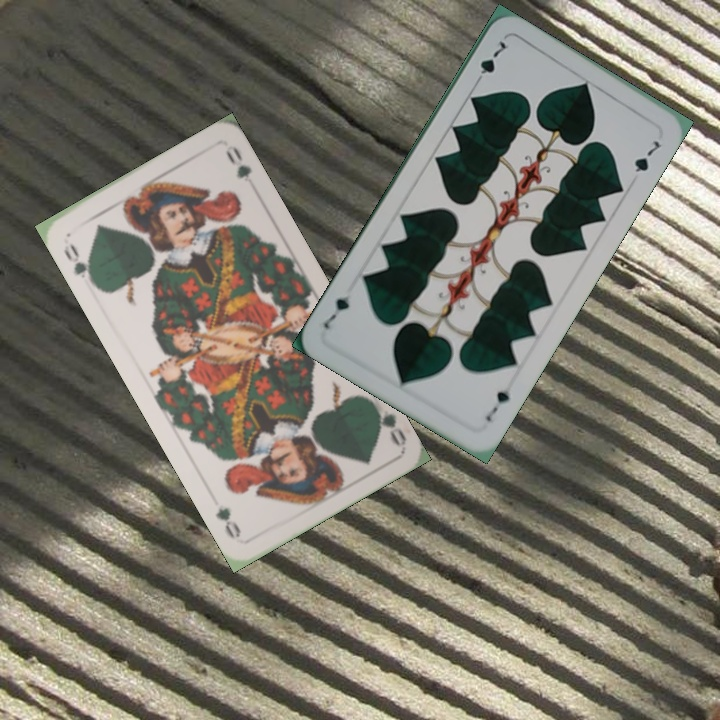G7: (470, 36, 509, 88), (481, 378, 516, 424)
GO: (366, 396, 409, 449), (59, 238, 98, 288)
